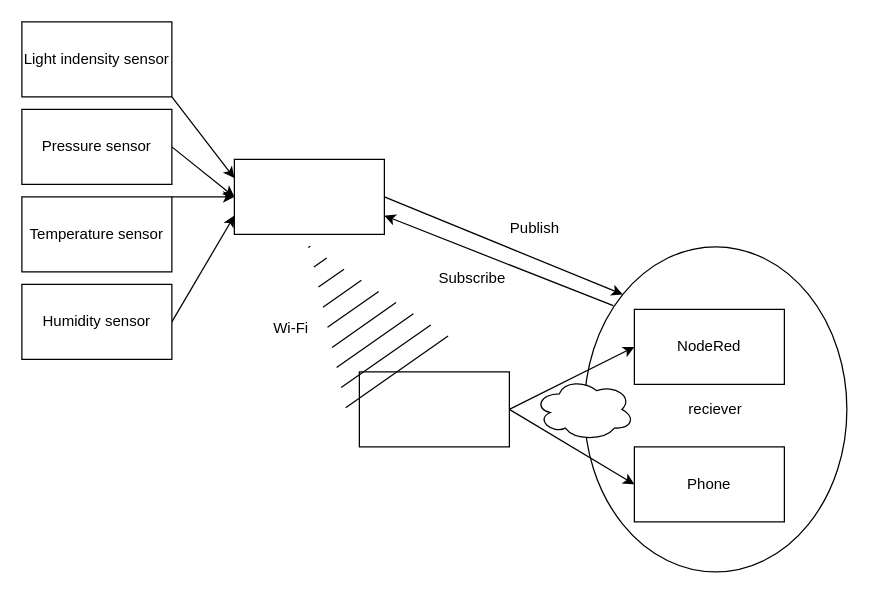
The diagram is 869 pixels wide and 594 high, and some of its shapes have lost their labels. Each missing label, with the centre of its shape:
"Cloud" goes at point (583, 409).
"Miacrocontroller" goes at point (308, 196).
"MQTT server" goes at point (433, 409).
